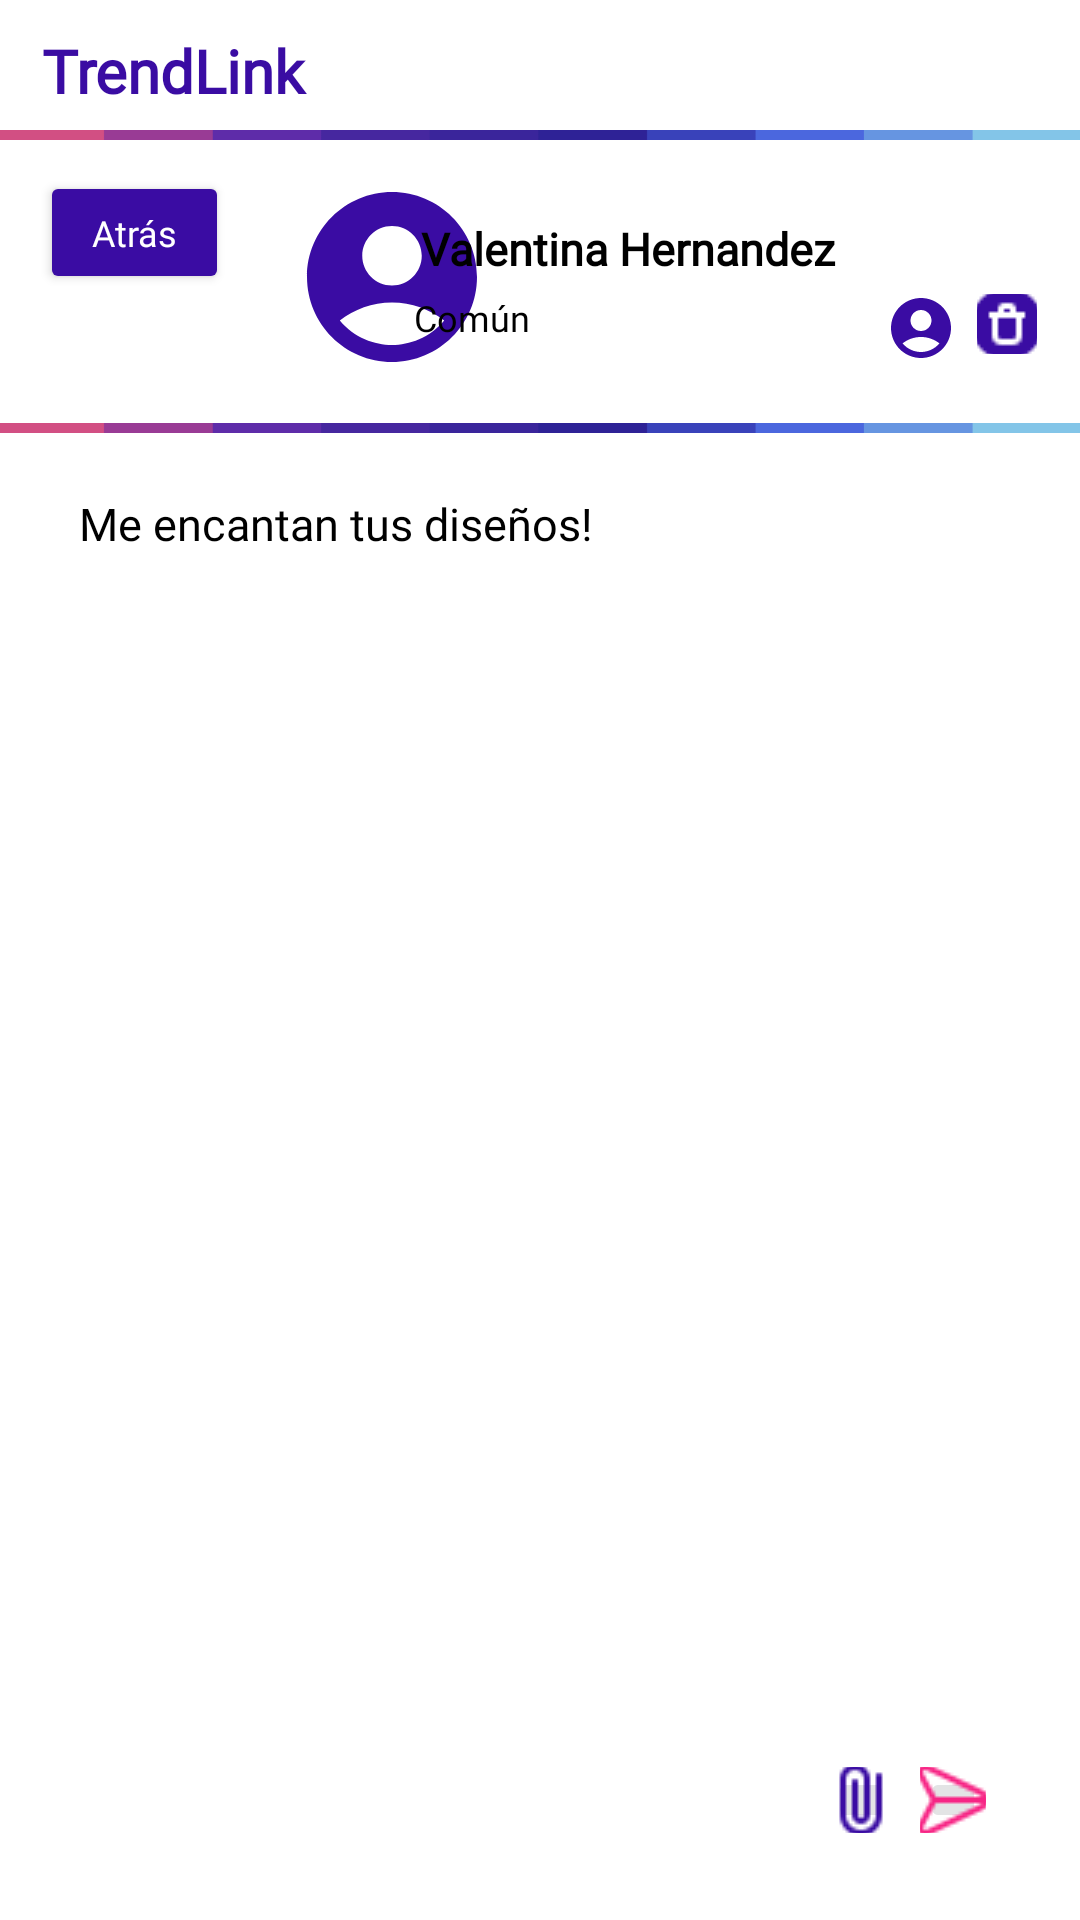

Named icons in this screenshot (1080×1920) and their centers, (x,y):
adjuntar: (861,1800)
circulo de basura: (1007,324)
enviar: (953,1800)
